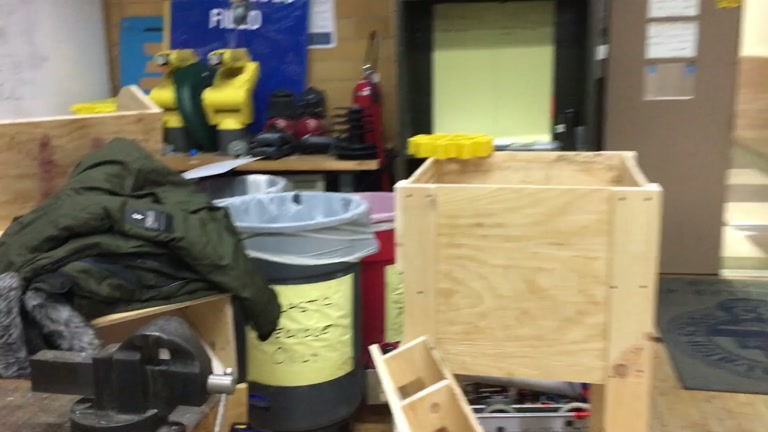gear: (405, 130, 494, 162)
